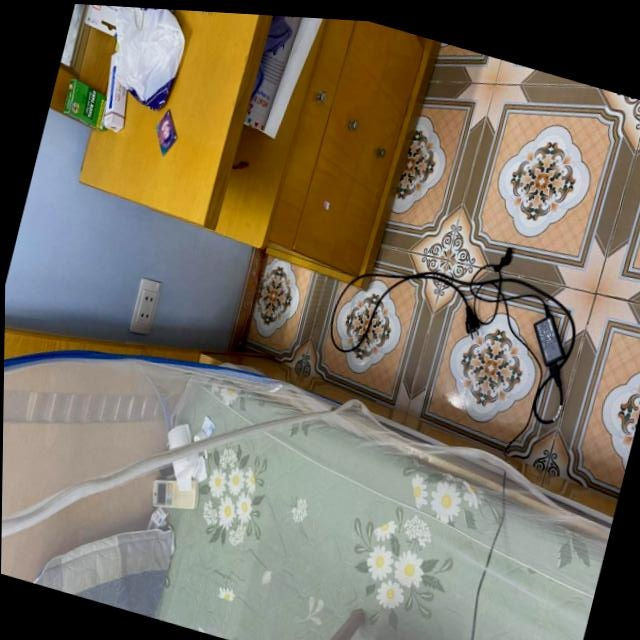outlet: (127, 276, 163, 340)
